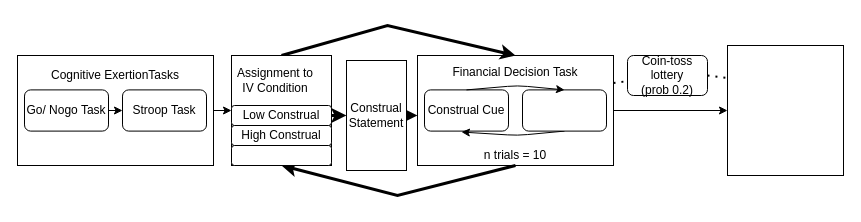
The diagram is 861 pixels wide and 222 high, and some of its shapes have lost their labels. Each missing label, with the centre of its shape:
"Brief Self-control Inventory Subjective Numeracy Scale Financial Literacy Scale" belongs at [785,110].
"Coin-toss trial" belongs at [564,110].
"Control Condition" belongs at [281,155].
